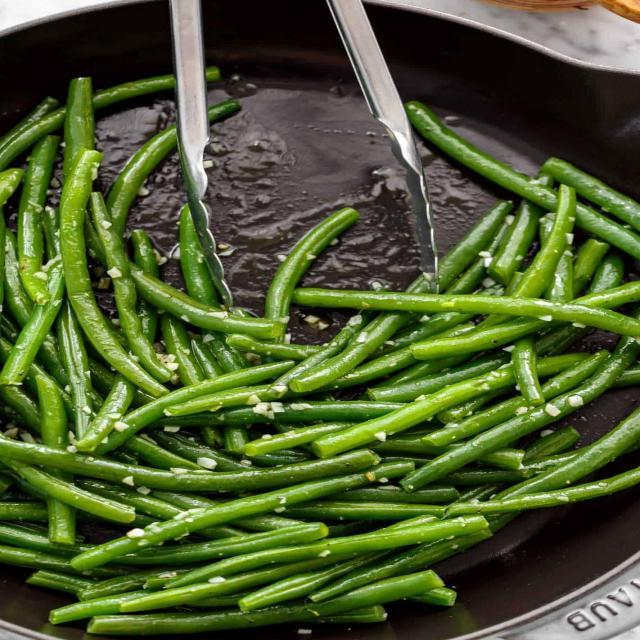Beans: (0, 61, 639, 639)
